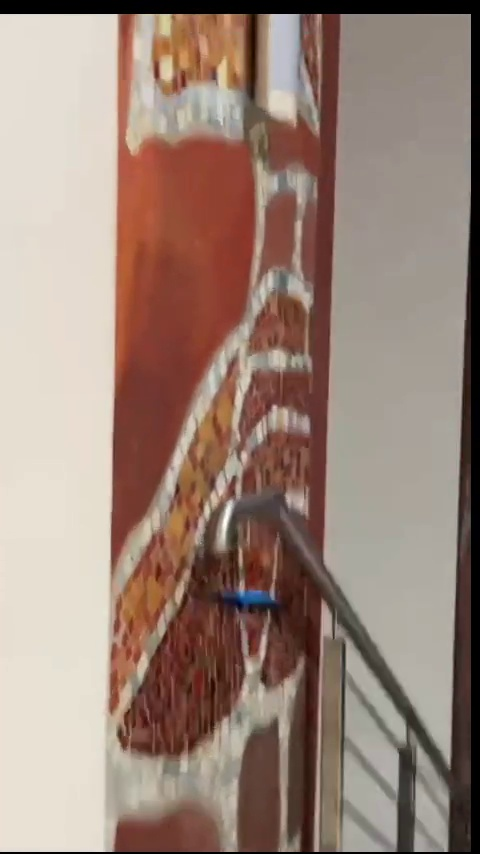drone: (213, 585, 282, 618)
